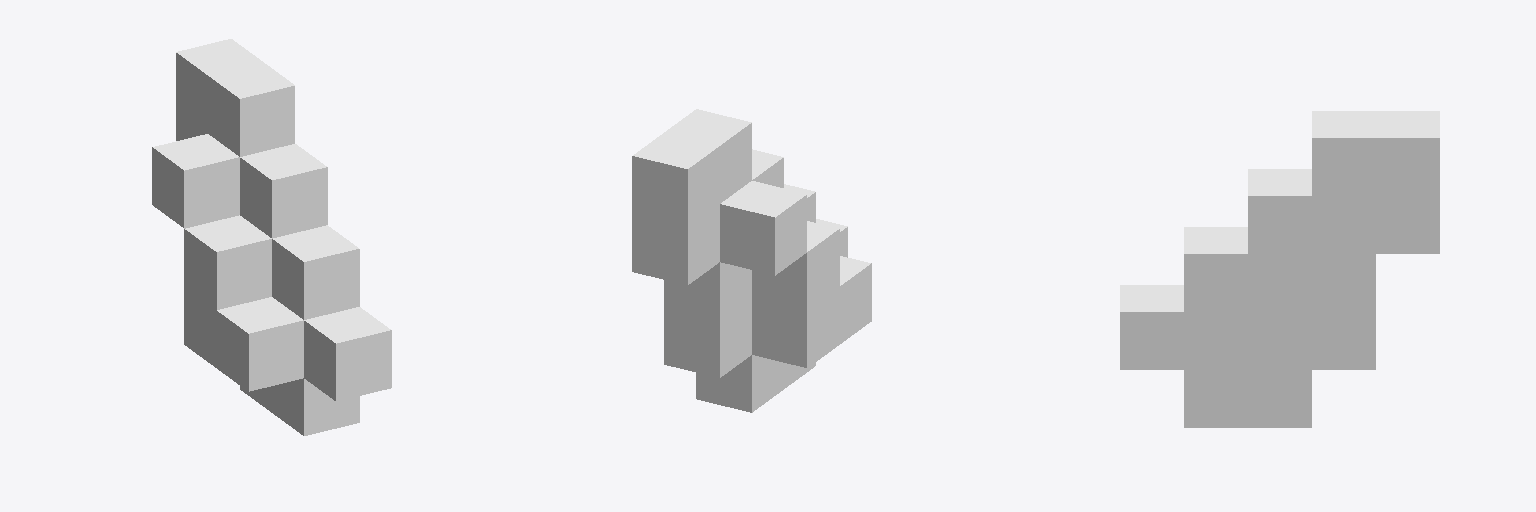
File: Bunny-Bit-6-(White).obj
3 renders of one model, left to right at view 1: azimuth 30°, elevation 25°; view 2: azimuth 150°, elevation 25°; view 3: azimuth 270°, elevation 25°, orthographic.
Visible parts, largest first — view 1: object 1; view 2: object 1; view 3: object 1.
Boxes of the visible parts, box(x1,y1,x2,y2) form: object 1: box(152, 39, 391, 435); object 1: box(632, 109, 871, 412); object 1: box(1120, 111, 1439, 427).
Bounding box in the file's own units: 0.2 × 0.5 × 0.5.